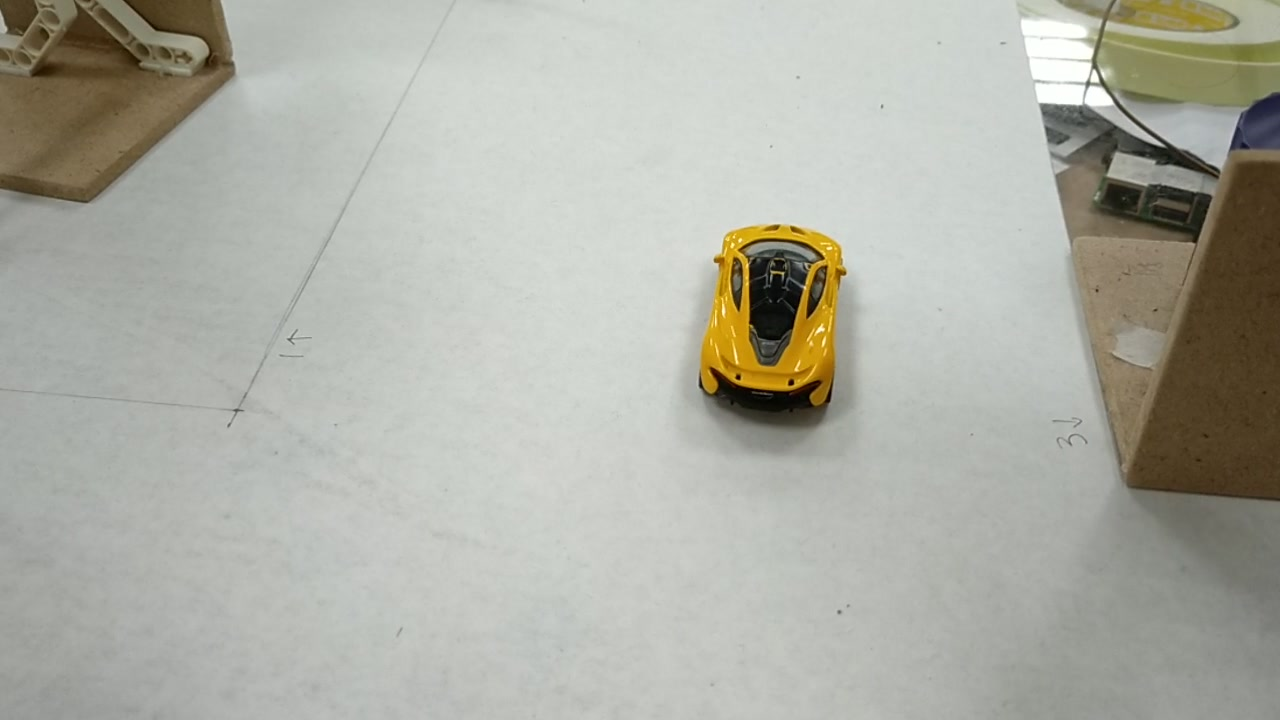car: (702, 229, 844, 403)
